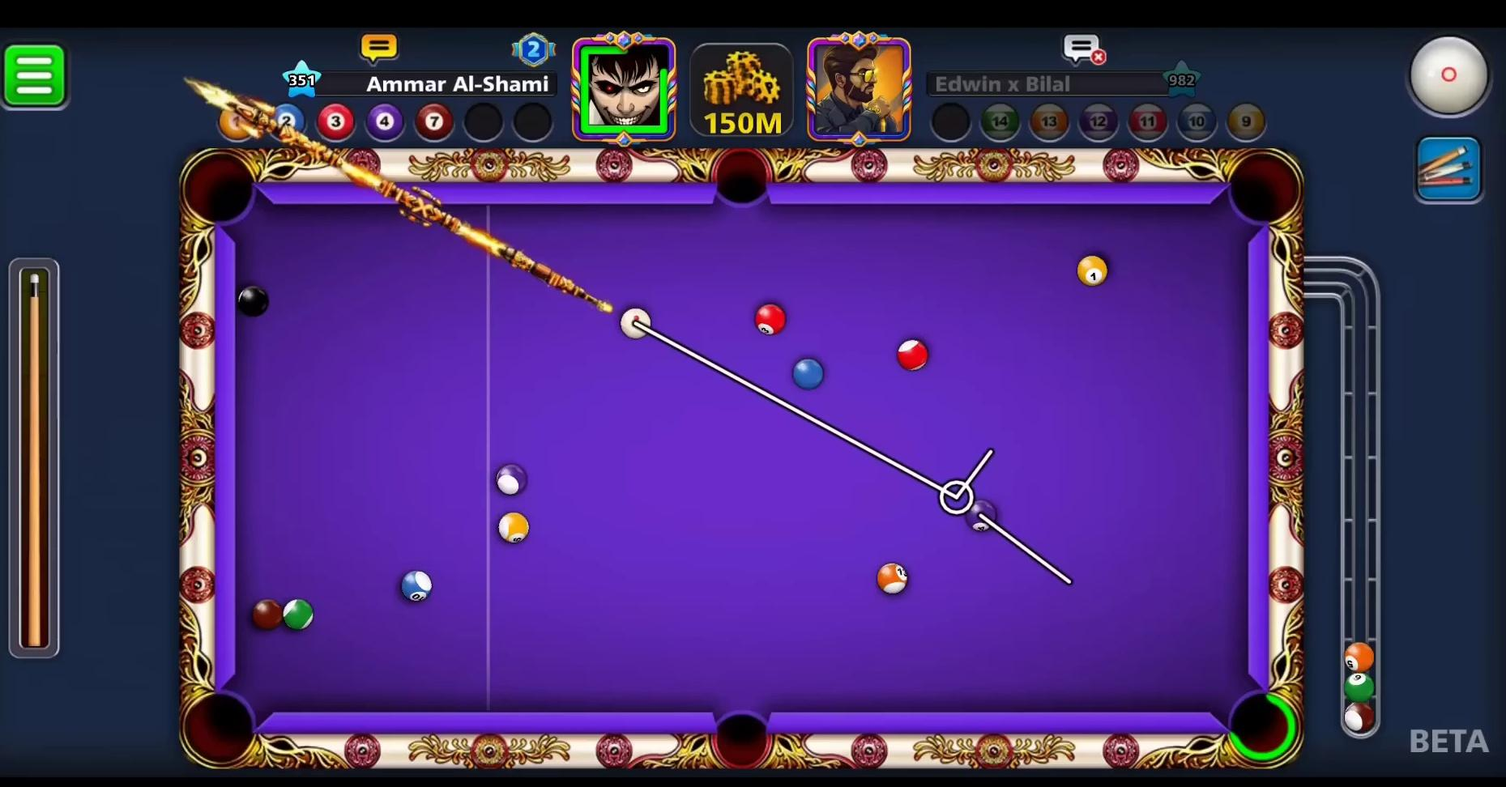Ball: (785, 351, 835, 400), (229, 282, 282, 322), (489, 456, 535, 500), (866, 563, 922, 599), (1069, 246, 1109, 294), (891, 333, 932, 377), (247, 598, 292, 638), (396, 565, 438, 606), (964, 493, 1003, 535), (495, 510, 538, 546), (275, 599, 321, 632), (750, 304, 792, 340)
Force: (8, 249, 68, 666)
Guideline: (632, 315, 1082, 596)
Hole: (171, 137, 273, 244), (1206, 666, 1308, 772), (166, 681, 274, 774), (696, 684, 789, 773), (1219, 145, 1310, 235), (698, 141, 783, 222)
Play_Area: (238, 206, 1251, 713)
Spin: (1396, 23, 1496, 135)
White: (613, 300, 665, 338)
